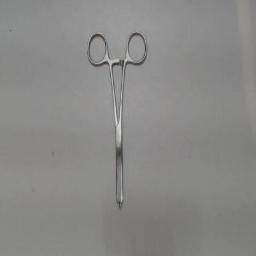Allis Tissue Forceps: (84, 28, 154, 218)
